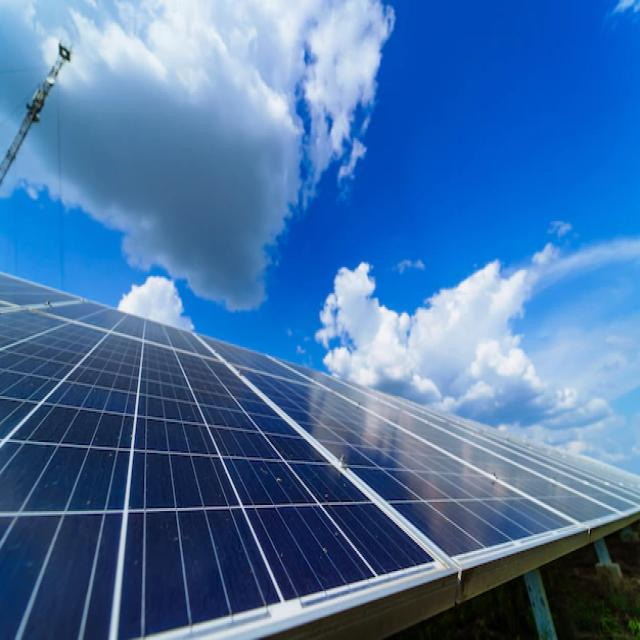clean-solar-panel: (1, 274, 640, 638)
